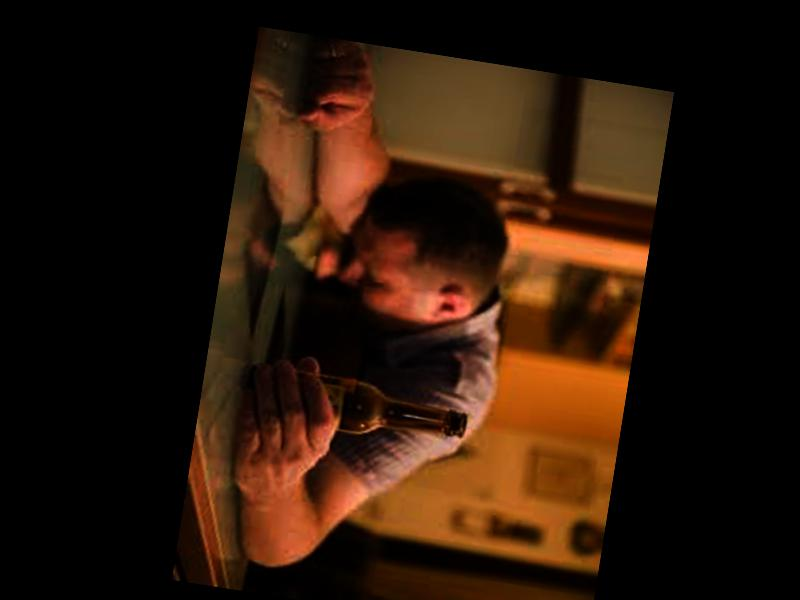Beer: (241, 364, 471, 448)
